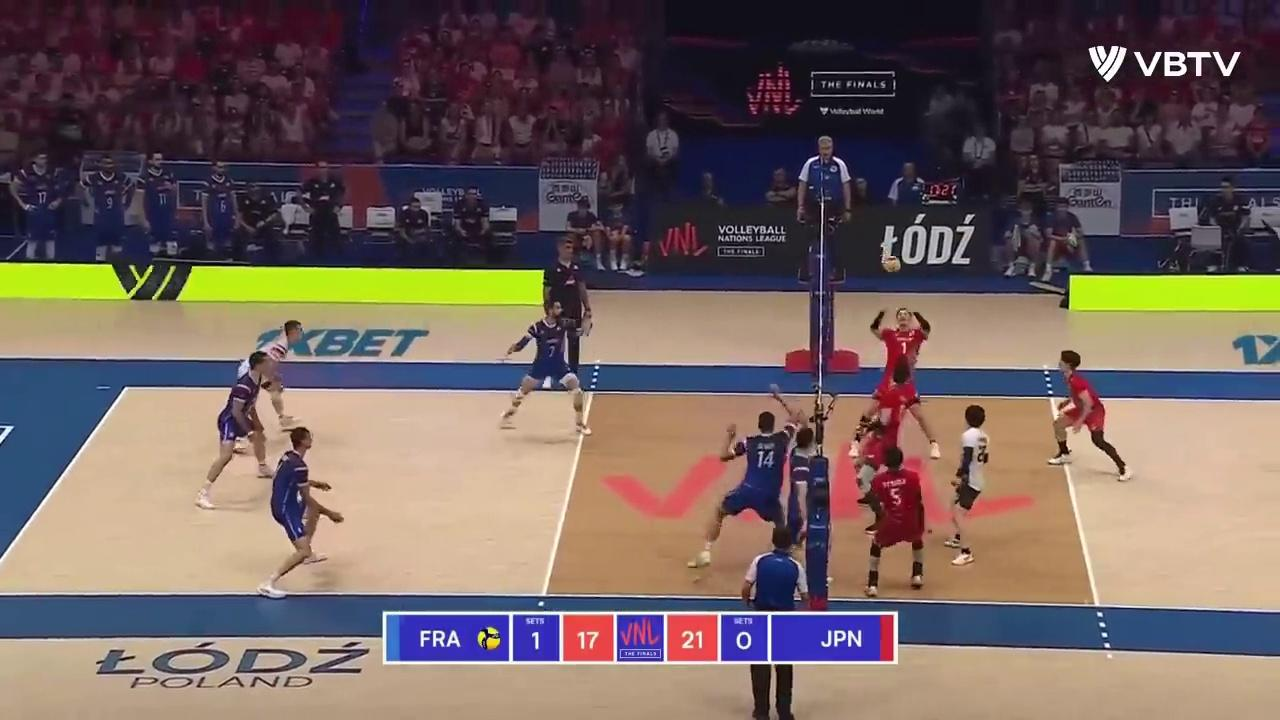ball: (880, 256, 901, 274)
